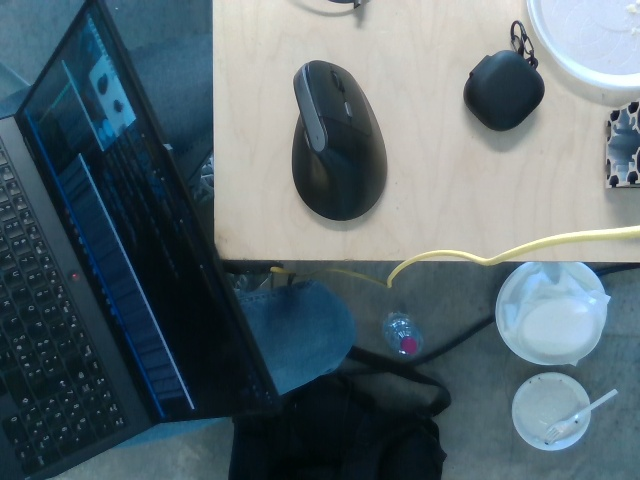cube_hackaton: (460, 38, 548, 131)
